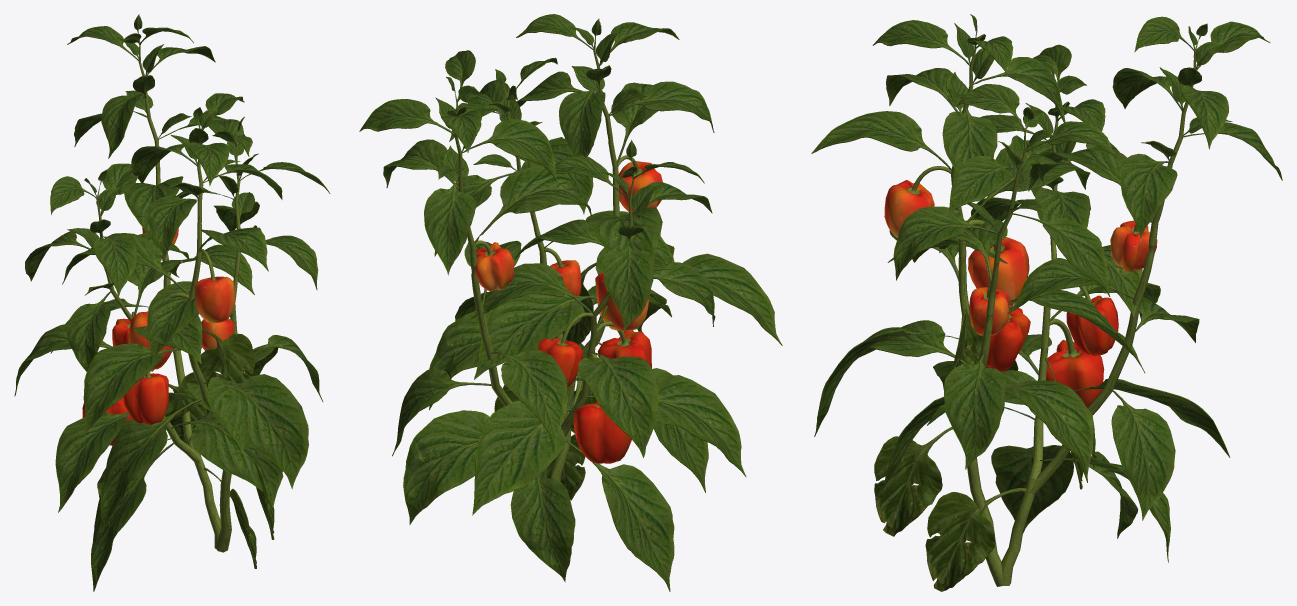
3 renders of one model, left to right at view 1: azimuth 30°, elevation 25°; view 2: azimuth 150°, elevation 25°; view 3: azimuth 270°, elevation 25°, orthographic. The views are drawn at different scales.
Visible parts, largest first — view 1: VG07_021; view 2: VG07_021; view 3: VG07_021.
Boxes of the visible parts, left/top/right/bottom form: VG07_021: left=14, top=14, right=330, bottom=591; VG07_021: left=359, top=14, right=782, bottom=591; VG07_021: left=811, top=14, right=1282, bottom=591.
Size of the model in its own units: 0.4641 by 0.6046 by 0.8349.
Materials: 5 (5 with a texture image).
